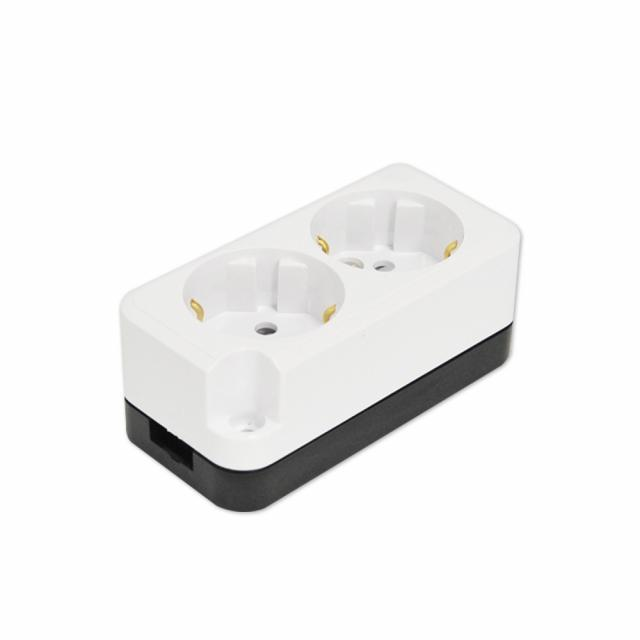typeb: (16, 145, 544, 492)
